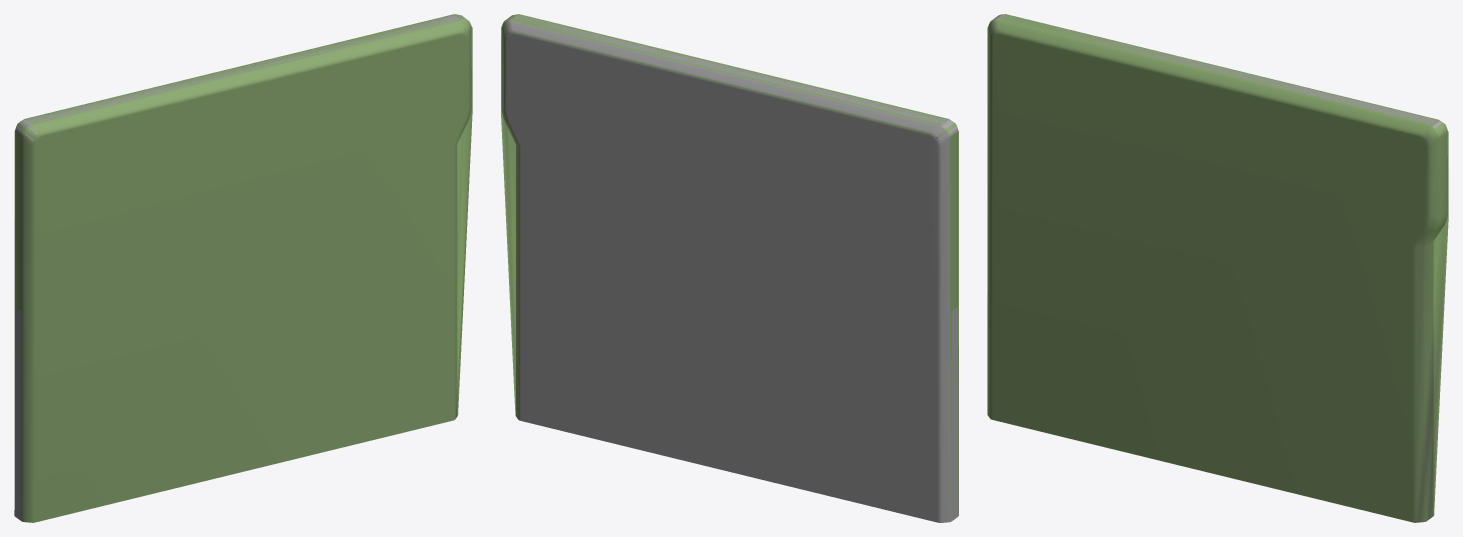
File: M_md_Stall2_end_02.fbx
3 renders of one model, left to right at view 1: azimuth 30°, elevation 25°; view 2: azimuth 150°, elevation 25°; view 3: azimuth 330°, elevation 25°, orthographic.
Visible parts, largest first — view 1: M_md_Stall2_end_02_col_01, M_md_Stall2_end_02_LOD0; view 2: M_md_Stall2_end_02_LOD0, M_md_Stall2_end_02_col_01; view 3: M_md_Stall2_end_02_col_01, M_md_Stall2_end_02_LOD0.
Part boxes in pixels (x1,y1,x2,y2): M_md_Stall2_end_02_col_01: (14, 14, 472, 522); M_md_Stall2_end_02_LOD0: (14, 14, 471, 522); M_md_Stall2_end_02_LOD0: (501, 14, 958, 522); M_md_Stall2_end_02_col_01: (501, 14, 958, 521); M_md_Stall2_end_02_col_01: (987, 14, 1448, 522); M_md_Stall2_end_02_LOD0: (987, 14, 1447, 522).
Size of what is drawn, in the model's own units: 113 by 94.41 by 6.95.
